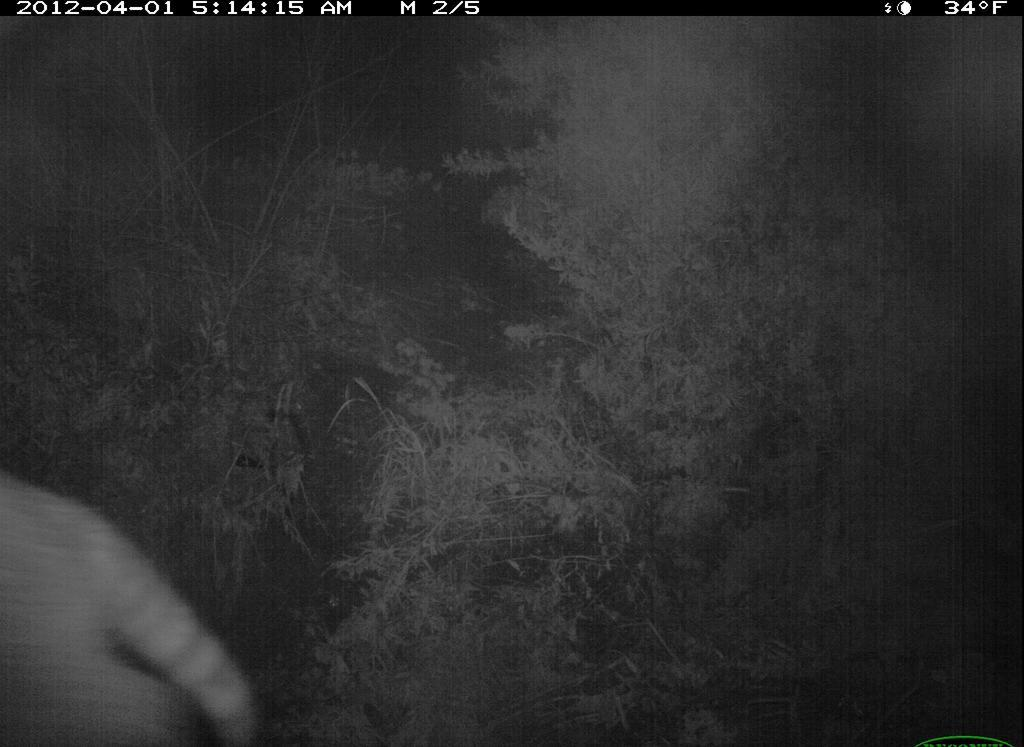raccoon: (2, 469, 265, 747)
